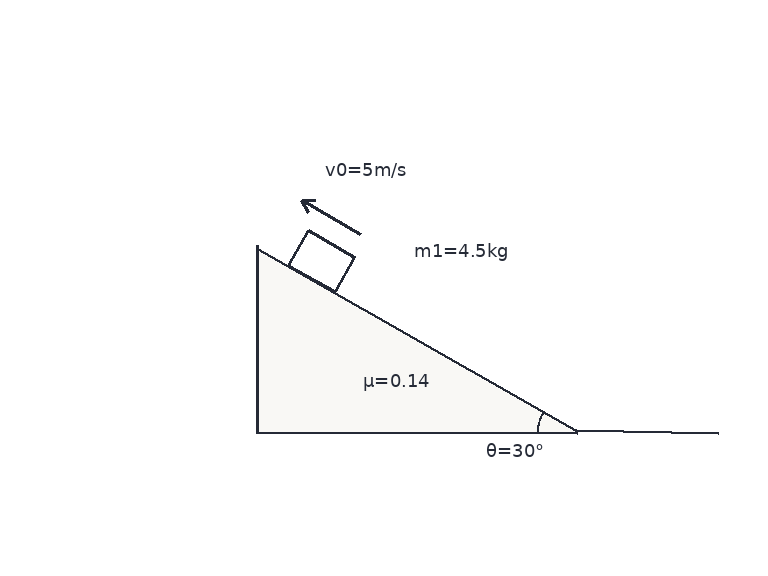block: (286, 229, 356, 293)
ramp: (255, 245, 580, 434)
